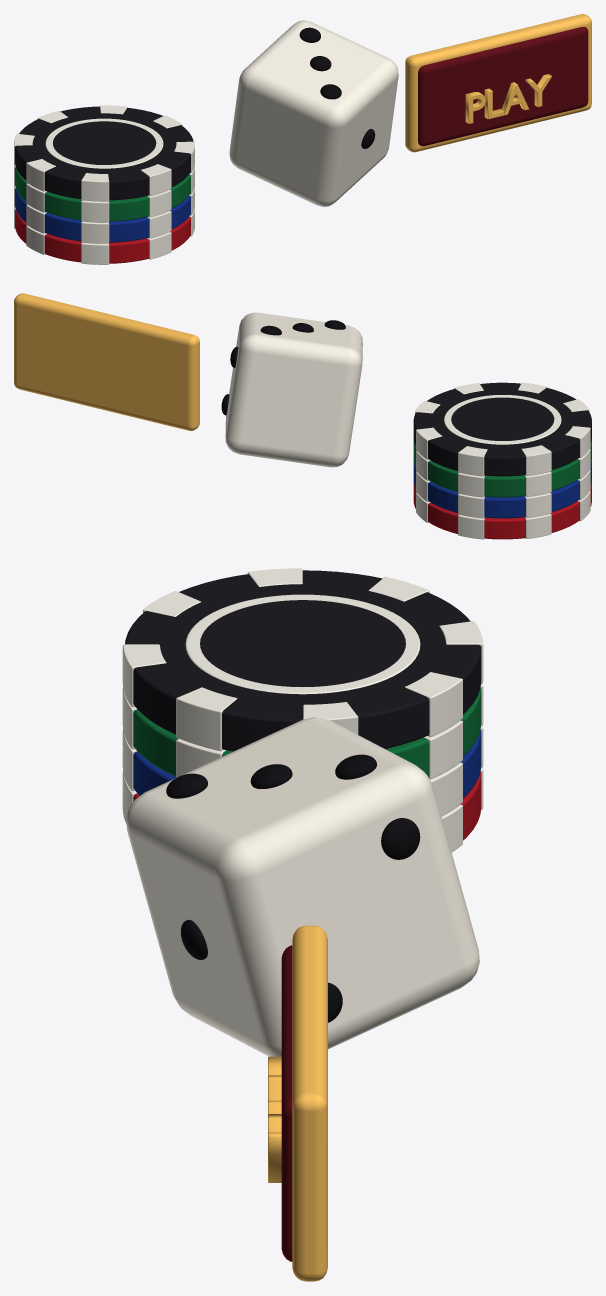
Rendered from casino.glb.
3 views of the same model, one above another, from view 1: azimuth 30°, elevation 25°; view 2: azimuth 150°, elevation 25°; view 3: azimuth 270°, elevation 25° (orthographic). The views are drawn at different scales.
Visible parts, largest first — view 1: die, plaque-body, chip-body-3, plaque-edge, chip-inner-3, chip-body-1, chip-body-0, chip-body-2, plaque-text, chip-face-3, stripe-3-5, stripe-3-6 (+10 smaller); view 2: plaque-edge, die, chip-body-3, chip-inner-3, chip-body-0, chip-body-1, chip-body-2, chip-face-3, stripe-3-2, stripe-3-3, stripe-1-2, stripe-2-2 (+6 smaller); view 3: die, chip-body-3, chip-inner-3, plaque-edge, chip-face-3, plaque-body, chip-body-2, stripe-3-7, stripe-3-1, chip-body-1, plaque-text, stripe-2-1 (+6 smaller).
Part boxes in pixels (<box>): die: <box>229,20,398,206</box>; plaque-body: <box>418,27,588,146</box>; chip-body-3: <box>15,106,193,200</box>; plaque-edge: <box>405,14,591,152</box>; chip-inner-3: <box>53,121,156,164</box>; chip-body-1: <box>15,188,190,242</box>; chip-body-0: <box>15,209,190,263</box>; chip-body-2: <box>15,167,190,221</box>; plaque-text: <box>465,74,551,123</box>; chip-face-3: <box>45,118,163,168</box>; stripe-3-5: <box>81,173,109,201</box>; stripe-3-6: <box>141,164,171,196</box>; plaque-edge: <box>14,293,199,430</box>; die: <box>225,312,362,467</box>; chip-body-3: <box>413,382,591,476</box>; chip-inner-3: <box>451,397,554,440</box>; chip-body-0: <box>413,482,591,539</box>; chip-body-1: <box>413,461,591,518</box>; chip-body-2: <box>413,440,591,497</box>; chip-face-3: <box>444,395,561,444</box>; stripe-3-2: <box>458,446,487,476</box>; stripe-3-3: <box>521,445,551,475</box>; stripe-1-2: <box>458,493,484,518</box>; stripe-2-2: <box>458,472,484,497</box>; die: <box>126,717,479,1056</box>; chip-body-3: <box>125,570,481,751</box>; chip-inner-3: <box>200,600,405,686</box>; plaque-edge: <box>292,925,327,1281</box>; chip-face-3: <box>185,594,420,694</box>; plaque-body: <box>281,945,292,1261</box>; chip-body-2: <box>133,688,481,776</box>; stripe-3-7: <box>176,687,237,751</box>; stripe-3-1: <box>405,672,462,736</box>; chip-body-1: <box>133,730,481,798</box>; plaque-text: <box>268,1056,281,1182</box>; stripe-2-1: <box>424,720,462,779</box>.
Bounding box in the file's own units: 3.64 × 0.8678 × 1.01.
